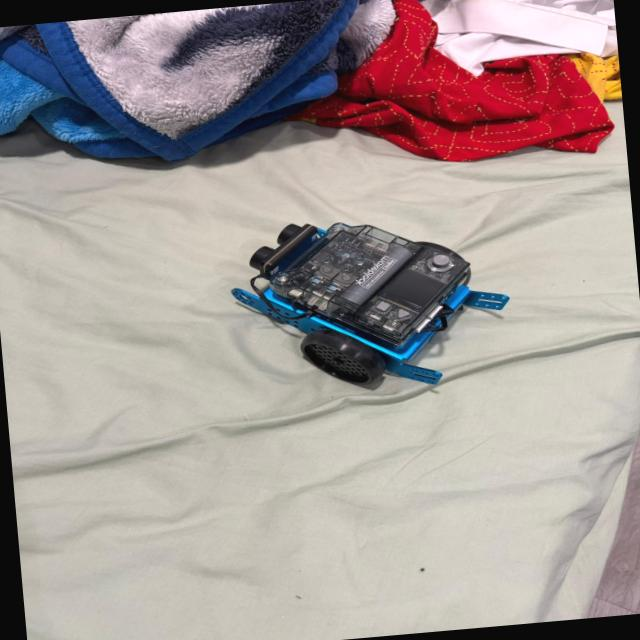mbot-detection: (218, 198, 522, 407)
